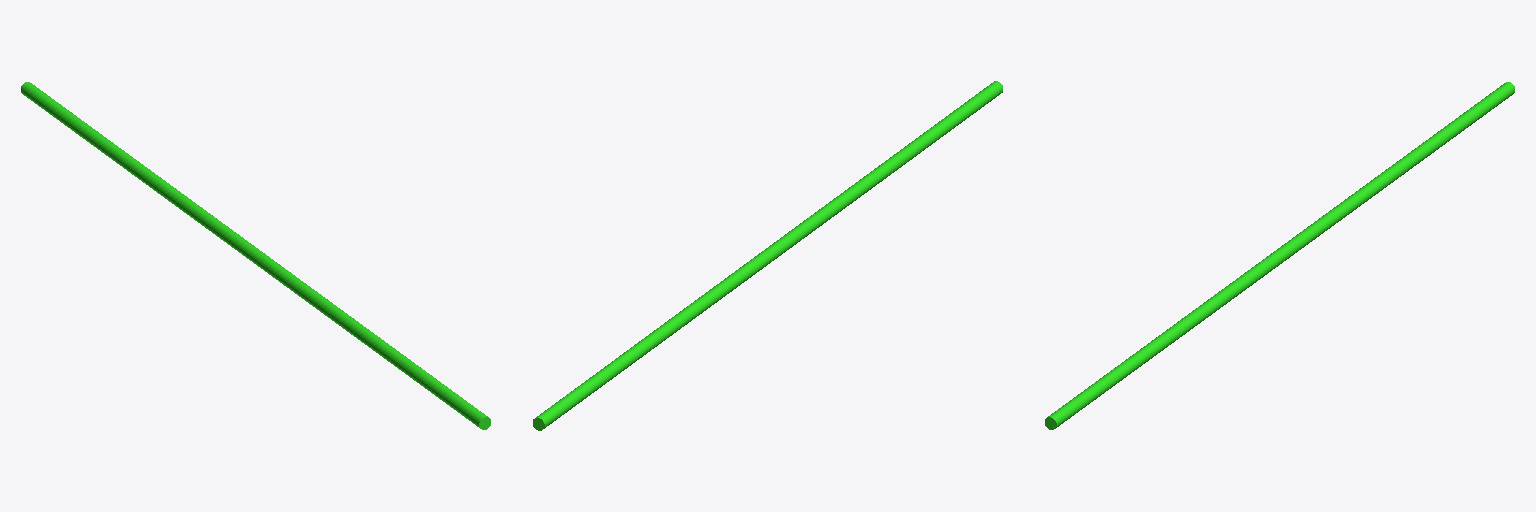
URDF robot description (strawberry_plant):
<?xml version="1.0" encoding="utf-8"?>
<robot name="strawberry_plant">
  <link name="world"/>
  <material name="Blue">
    <color rgba="0.28 0.52 0.92 1.0"/>0
  </material>
  <material name="red">
    <color rgba="0.9 0.2 0.2 1.0"/>0
  </material>
  <material name="green">
    <color rgba="0.25 0.9 0.2 1.0"/>0
  </material>

  <link name="Upperstem">
<!--     <visual>
      <geometry>
        <sphere radius="0.01"/>
      </geometry>
      <origin rpy="0 0 0" xyz="0 0 0"/>
      <material name="green"/>
    </visual> -->
    <inertial>
      <origin rpy="0 0 0" xyz="0 0 0"/>
      <mass value="0.0"/>
        <inertia  ixx="0.0" ixy="0.0" ixz="0.0"
                  iyy="0.0" iyz="0.0"
                  izz="0.0" />
    </inertial>
  </link>

  <joint name="joint0" type="fixed">
    <parent link="world"/>
    <child link="Upperstem"/>
    <origin rpy="0 0 0" xyz="0 0 0"/>
  </joint>

  <link name="stem">
    <visual>
      <geometry>
        <cylinder radius="0.001" length="0.13"/>
      </geometry>
      <origin rpy="1.57 0 0" xyz="0 0.075 0"/>
      <material name="green"/>
    </visual>
    <collision>
      <geometry>
        <cylinder radius="0.001" length="0.13"/>
      </geometry>
      <origin rpy="1.57 0 0" xyz="0 0.075 0"/>
    </collision>
    <inertial>
      <origin rpy="1.57 0 0" xyz="0 0.075 0"/>
      <mass value="0.01"/>
        <inertia  ixx="0.00001" ixy="0.0" ixz="0.0"
                  iyy="0.00001" iyz="0.0"
                  izz="0.00001" />    
    </inertial>
  </link>

  <link name="inner_jointlink_1">
    <inertial>
      <origin rpy="0 0 0" xyz="0 0 0"/>
      <mass value="0.0"/>
        <inertia  ixx="0.0" ixy="0.0" ixz="0.0"
                  iyy="0.0" iyz="0.0"
                  izz="0.0" />
    </inertial>
  </link>
  <joint name="innerjoint1" type="revolute" >
    <parent link="Upperstem" />
    <child link="inner_jointlink_1" />
    <origin xyz="0 0 0" rpy="0 0 0"/>
    <axis xyz="1 0 0" />
    <dynamics damping="0.0001" friction="0.0002"/>
    <limit
      lower="-10" upper="10"
      effort="1" velocity="0.1" />
  </joint>

  <link name="inner_jointlink_2">
    <inertial>
      <origin rpy="0 0 0" xyz="0 0 0"/>
      <mass value="0.0"/>
        <inertia  ixx="0.0" ixy="0.0" ixz="0.0"
                  iyy="0.0" iyz="0.0"
                  izz="0.0" />
    </inertial>
  </link>
  <joint name="innerjoint2" type="revolute" >
    <parent link="inner_jointlink_1" />
    <child link="inner_jointlink_2" />
    <origin xyz="0 0 0" rpy="0 0 0"/>
    <axis xyz="0 1 0" />
    <dynamics damping="0.0001" friction="0.0002"/>
    <limit
      lower="-10" upper="10"
      effort="1" velocity="0.1" />
  </joint>

  <joint name="innerjoint3" type="revolute" >
    <parent link="inner_jointlink_2" />
    <child link="stem" />
    <origin xyz="0 0 0" rpy="0 0 0"/>
    <axis xyz="0 0 1" />
    <dynamics damping="0.0001" friction="0.0002"/>
    <limit
      lower="-10" upper="10"
      effort="1" velocity="0.1" />
  </joint>

  <link name="strawberry">
    <visual>
      <geometry>
        <mesh filename="meshes/strawberry.obj" scale="0.01 0.01 0.01"/>
      </geometry>
      <origin rpy="1.57 0 0" xyz="-0.005 0.15 -0.005"/>
      <material name="red"/>
    </visual>
    <collision>
      <geometry>
        <mesh filename="meshes/strawberry.obj" scale="0.01 0.01 0.01"/>
      </geometry>
      <origin rpy="1.57 0 0" xyz="-0.005 0.15 -0.005"/>
    </collision>
    <inertial>
      <origin rpy="1.57 0 0" xyz="-0.005 0.15 -0.005"/>
      <mass value="0.04"/>
        <inertia  ixx="0.00001" ixy="0.0" ixz="0.0"
                  iyy="0.00001" iyz="0.0"
                  izz="0.00001" />    
    </inertial>
  </link>

  <joint name="joint2" type="fixed">
    <parent link="stem"/>
    <child link="strawberry"/>
    <origin rpy="0 0 0" xyz="0 0 0"/>
  </joint>


<!-- /////////////////////////////////////////////////////////////////////////////////////////////////////////////////////////////////////////////////////////////////////////////////////////////////////////////////////////// -->

<!--  <link name="link2">
    <visual>
      <geometry>
        <sphere radius="0.05"/>
      </geometry>
      <origin rpy="0 0 0" xyz="0 0.5 0"/>
      <material name="Red"/>
    </visual>
    <collision>
      <geometry>
        <sphere radius="0.05"/>
      </geometry>
      <origin rpy="0 0 0" xyz="0 0.5 0"/>
    </collision>
    <inertial>
      <origin rpy="0 0 0" xyz="0 0.5 0"/>
      <mass value="2.16"/>
      <inertia ixx="0.00539427" ixy="0" ixz="0" iyy="0.0048979" iyz="0" izz="0.00311573"/>
    </inertial>
  </link>
  <joint name="joint2" type="continuous">
    <parent link="link1"/>
    <child link="link2"/>
    <origin rpy="0 0 0" xyz="0 0.5 0"/>
    <axis xyz="1 0 0"/>
    <dynamics damping="1.0" friction="1.0"/>
  </joint>
  <link name="link3">
    <visual>
      <geometry>
        <sphere radius="0.05"/>
      </geometry>
      <origin rpy="0 0 0" xyz="0 0.5 0"/>
      <material name="Red"/>
    </visual>
    <collision>
      <geometry>
        <sphere radius="0.05"/>
      </geometry>
      <origin rpy="0 0 0" xyz="0 0.5 0"/>
    </collision>
    <inertial>
      <origin rpy="0 0 0" xyz="0 0.5 0"/>
      <mass value="2.16"/>
      <inertia ixx="0.00539427" ixy="0" ixz="0" iyy="0.0048979" iyz="0" izz="0.00311573"/>
    </inertial>
  </link>
  <joint name="joint3" type="continuous">
    <parent link="link2"/>
    <child link="link3"/>
    <origin rpy="0 0 0" xyz="0 0.5 0"/>
    <axis xyz="1 0 0"/>
    <dynamics damping="1.0" friction="1.0"/>
  </joint>
   <link name="link4">
    <visual>
      <geometry>
        <sphere radius="0.05"/>
      </geometry>
      <origin rpy="0 0 0" xyz="0 0.5 0"/>
      <material name="Red"/>
    </visual>
    <collision>
      <geometry>
        <sphere radius="0.05"/>
      </geometry>
      <origin rpy="0 0 0" xyz="0 0.5 0"/>
    </collision>
    <inertial>
      <origin rpy="0 0 0" xyz="0 0.5 0"/>
      <mass value="2.16"/>
      <inertia ixx="0.00539427" ixy="0" ixz="0" iyy="0.0048979" iyz="0" izz="0.00311573"/>
    </inertial>
  </link>
  <joint name="joint4" type="continuous">
    <parent link="link3"/>
    <child link="link4"/>
    <origin rpy="0 0 0" xyz="0 0.5 0"/>
    <axis xyz="1 0 0"/>
    <dynamics damping="1.0" friction="1.0"/>
  </joint> -->
</robot>

--- Facts derived from the render (not from the file) ---
3 views of the same robot in one strip: view 1: azimuth 30°, elevation 25°; view 2: azimuth 150°, elevation 25°; view 3: azimuth 330°, elevation 25° (orthographic).
Model strawberry_plant with 6 links and 5 joints (3 revolute, 2 fixed), rooted at world, posed all joints at 0.
Links seen in each view (by area): view 1: stem; view 2: stem; view 3: stem.
Link boxes in pixels (bbox=[...]): stem: bbox=[21, 82, 490, 429]; stem: bbox=[533, 81, 1002, 430]; stem: bbox=[1045, 82, 1514, 429].
Bounding box of the posed robot: 0.002 × 0.13 × 0.0021 m (x, y, z).
0 mesh visuals loaded from 1 distinct referenced files (none loaded); not drawn: 1 (reference not matched to a file when rendering).
